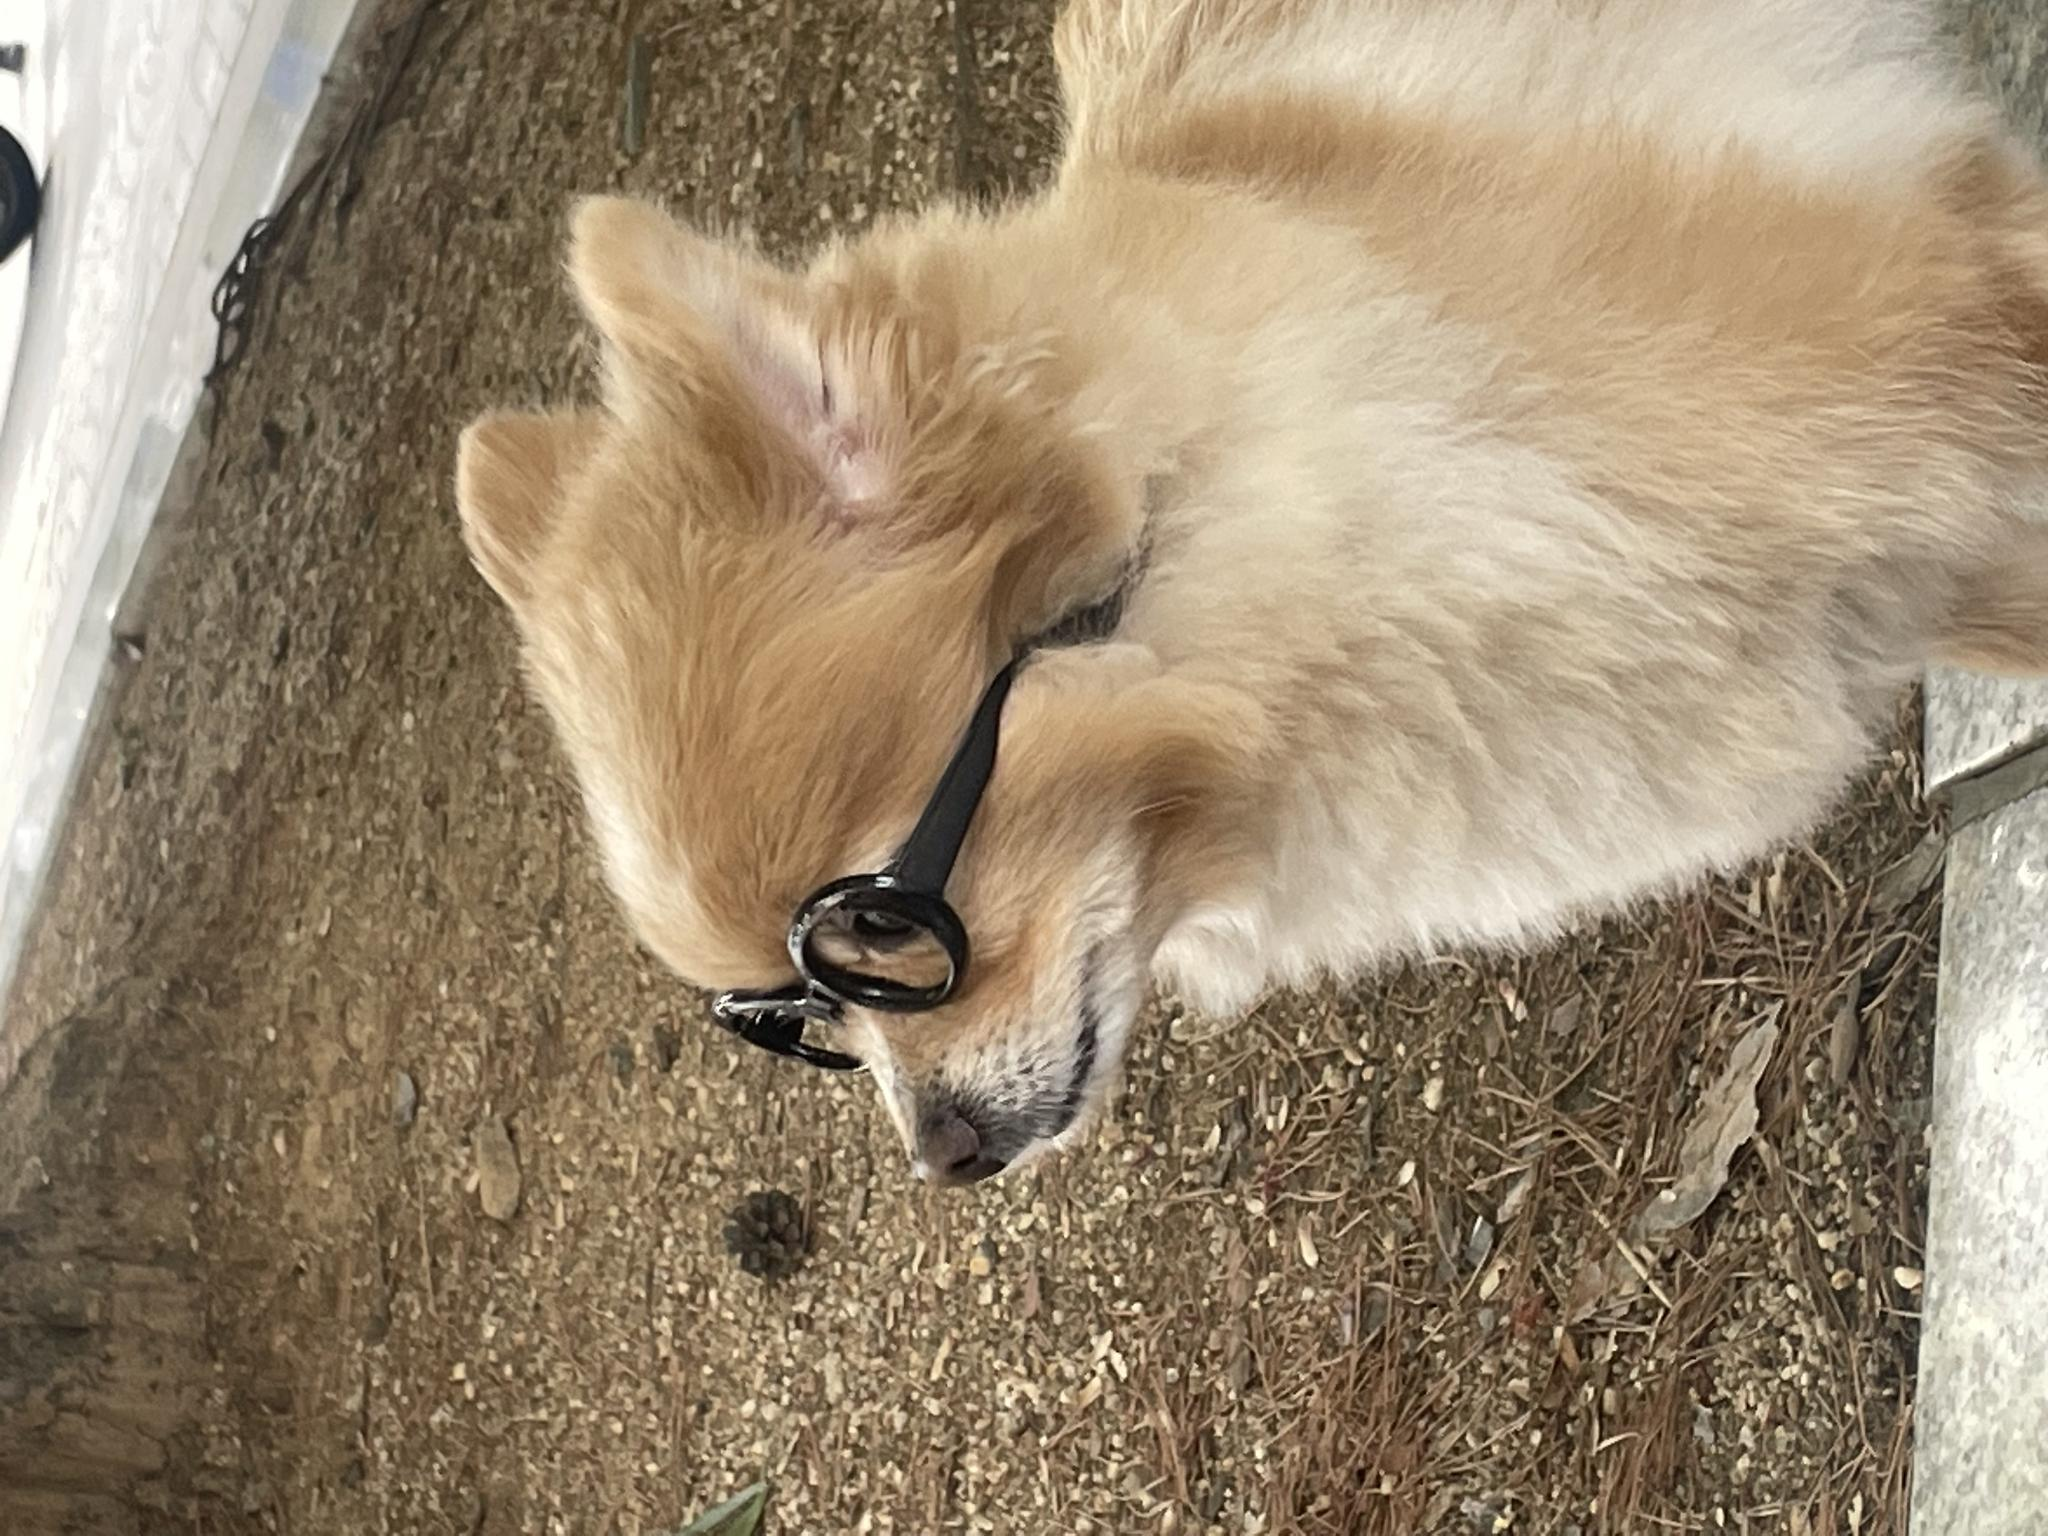dog: (345, 449, 1534, 1536)
